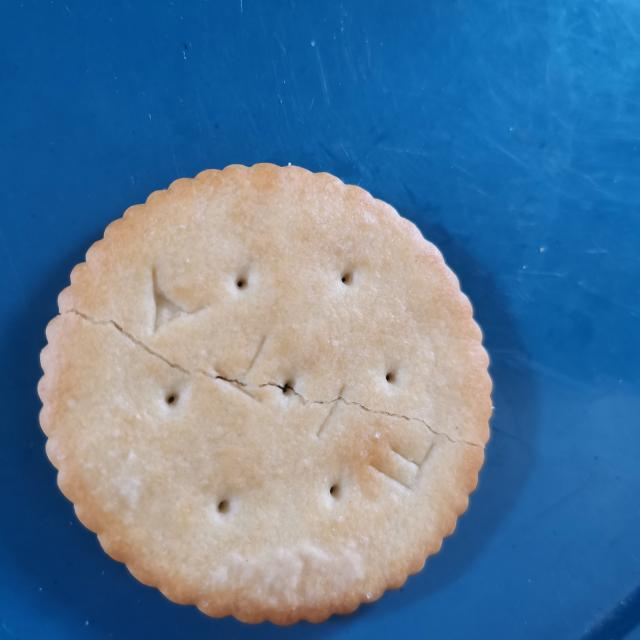Fracture: (37, 285, 490, 470)
